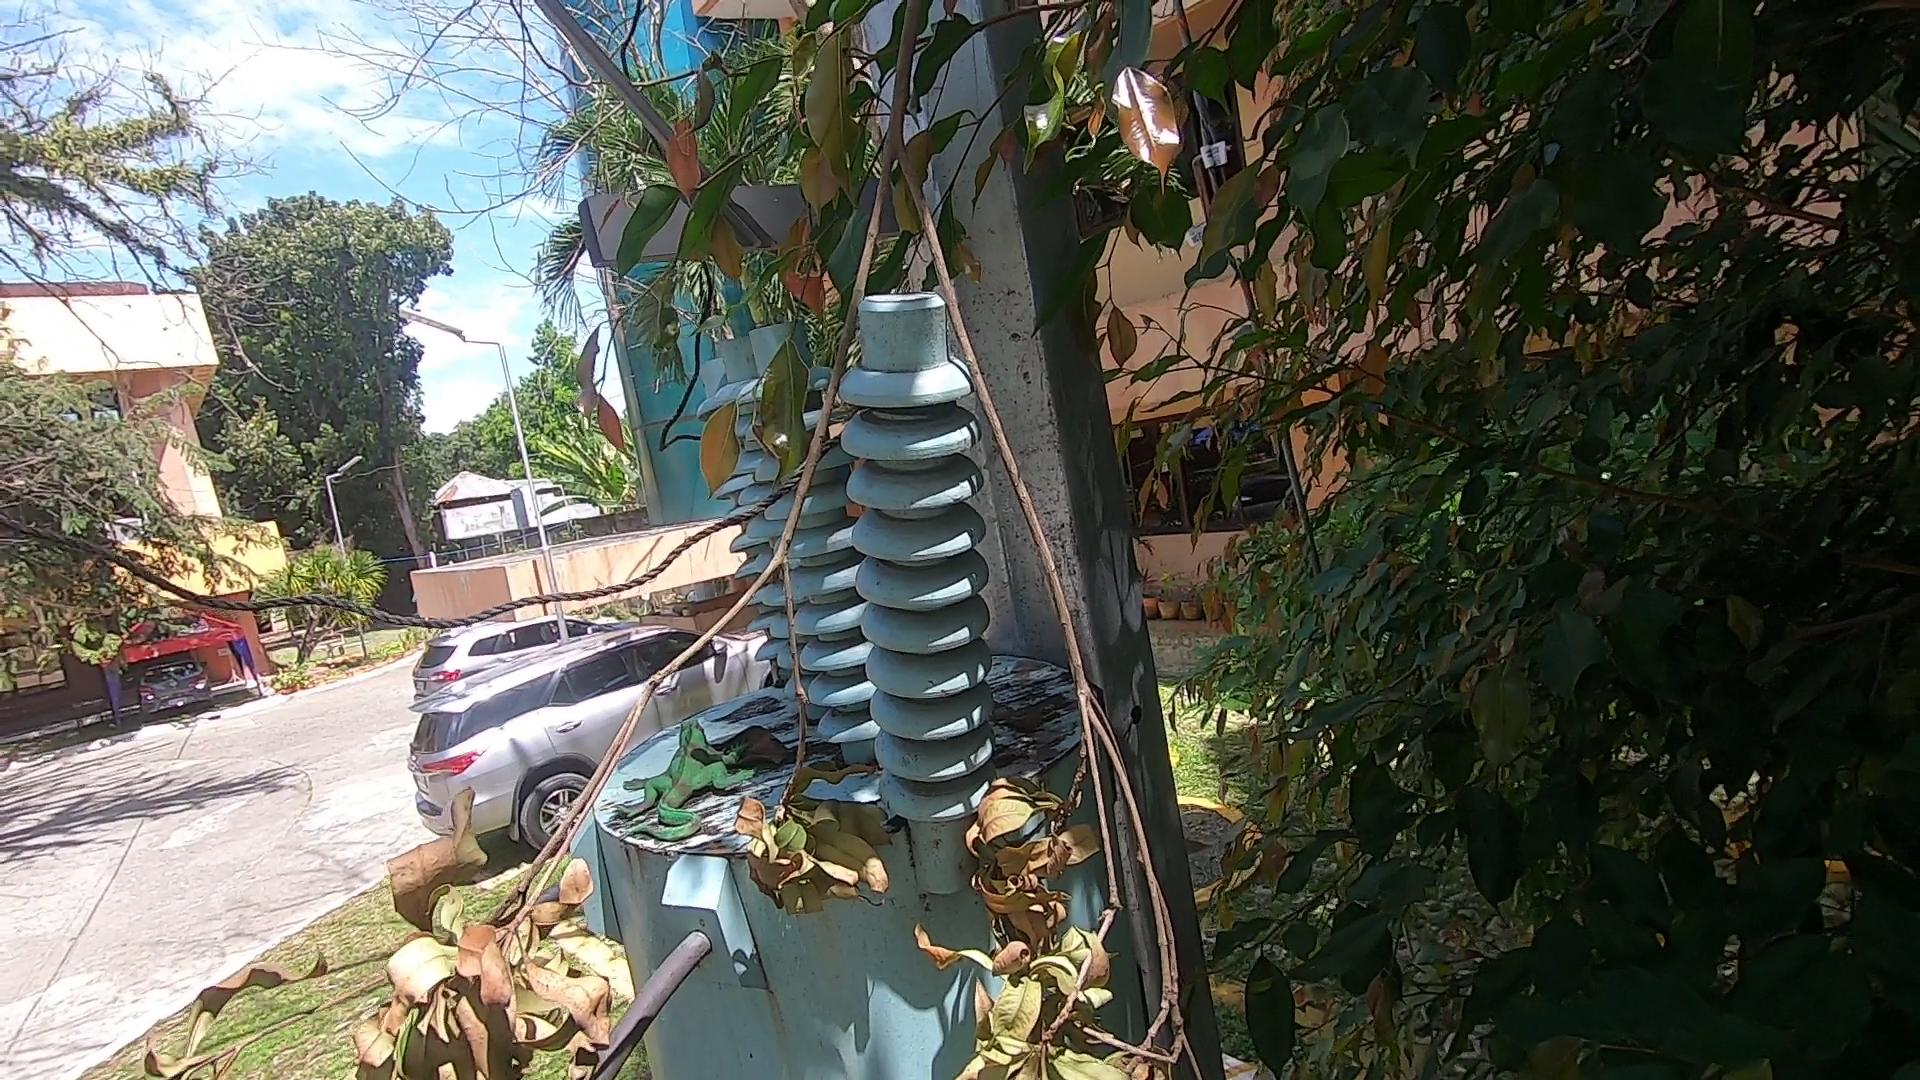branch with leaves: (112, 1, 1185, 1075)
leaf: (727, 727, 790, 785)
